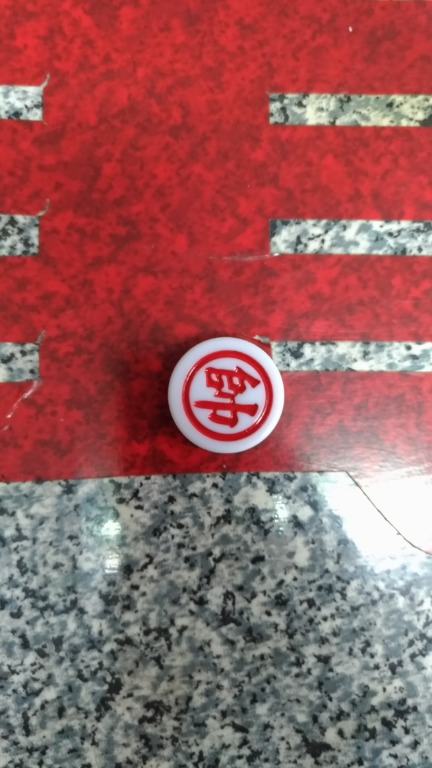r-king: (157, 334, 291, 459)
